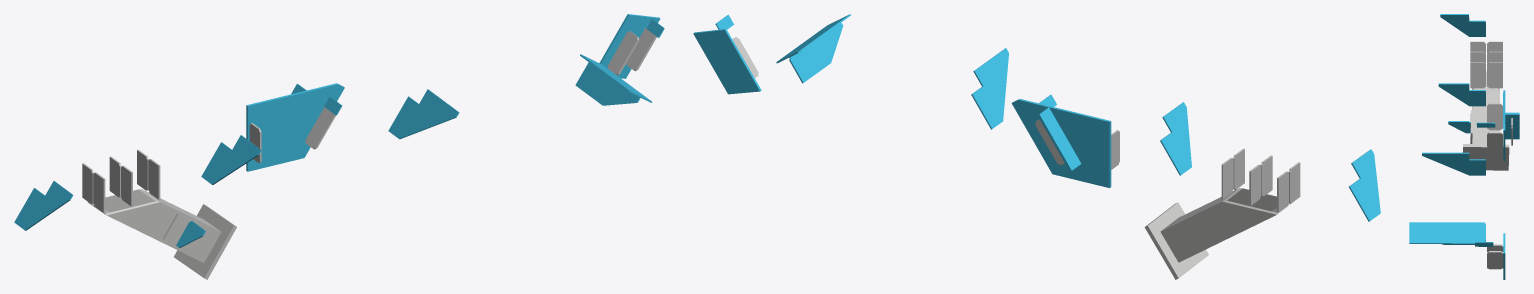
The model's file is assembly.gltf.
The picture shows the model from 3 angles, left to right: view 1: azimuth 30°, elevation 25°; view 2: azimuth 150°, elevation 25°; view 3: azimuth 270°, elevation 25°; orthographic projection. The views are drawn at different scales.
Size of the model in its own units: 6.44 by 1.3 by 1.23.
